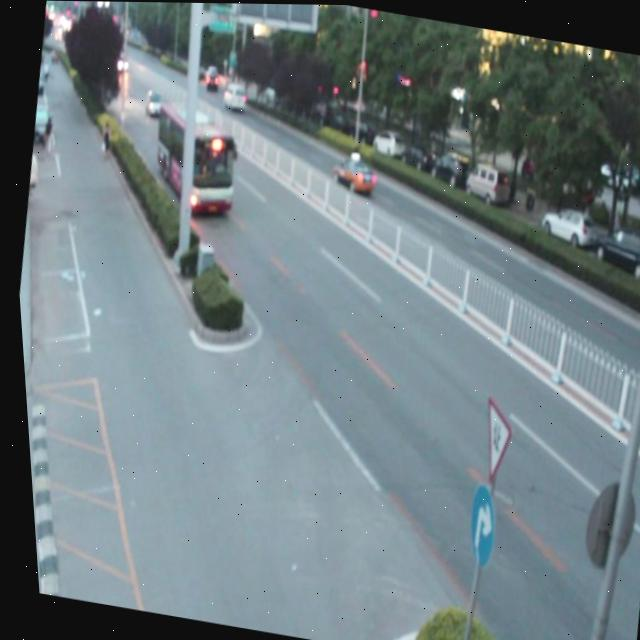car: (325, 148, 376, 194)
truck: (221, 81, 248, 110)
van: (144, 98, 244, 219)
